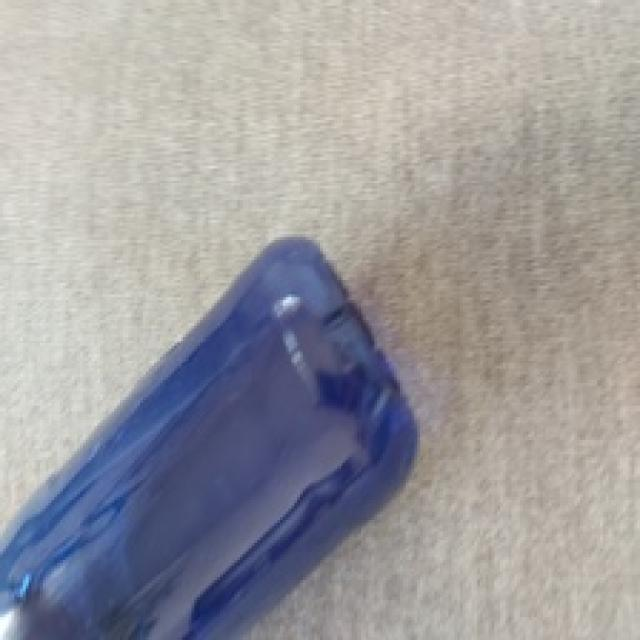good: (0, 235, 442, 640)
